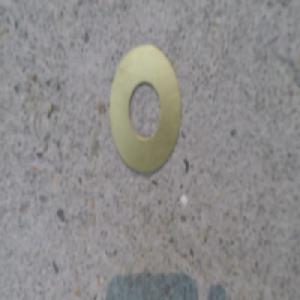Washer: (105, 45, 182, 179)
